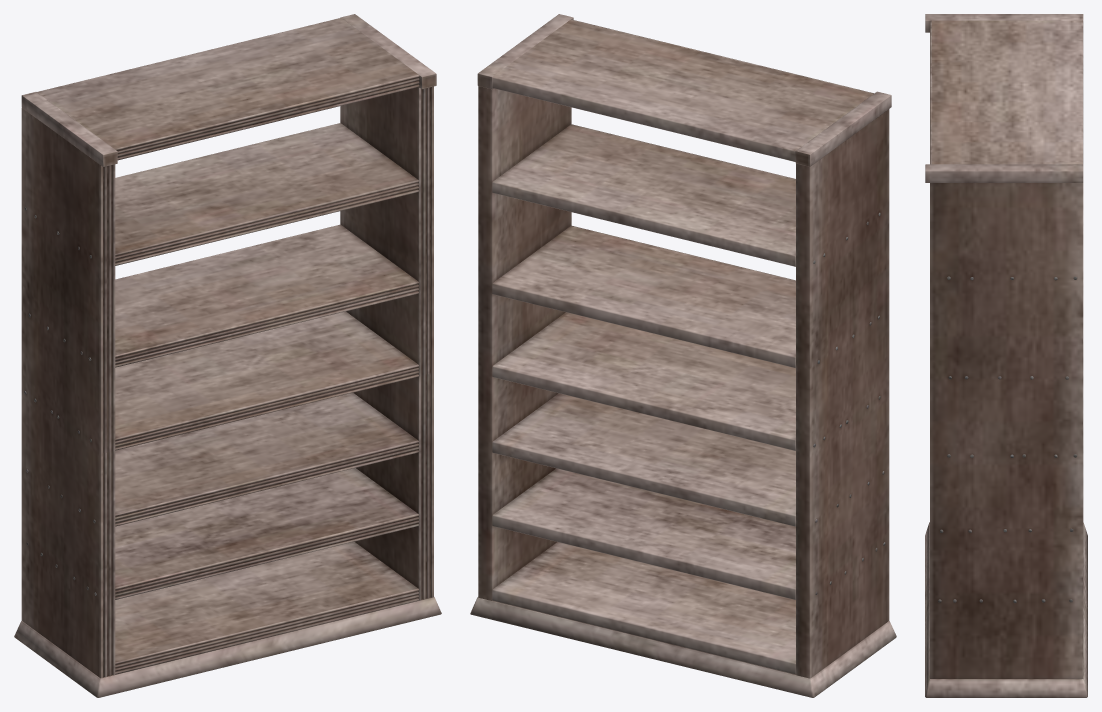
The model's file is bookshelf.glb.
The picture shows the model from 3 angles, left to right: view 1: azimuth 30°, elevation 25°; view 2: azimuth 150°, elevation 25°; view 3: azimuth 270°, elevation 25°; orthographic projection. The views are drawn at different scales.
Visible parts, largest first — view 1: wooden_bookshelf_worn; view 2: wooden_bookshelf_worn; view 3: wooden_bookshelf_worn.
Part boxes in pixels (left/top/right/bottom): wooden_bookshelf_worn: left=14, top=14, right=441, bottom=697; wooden_bookshelf_worn: left=470, top=14, right=896, bottom=697; wooden_bookshelf_worn: left=925, top=14, right=1087, bottom=697.
Size of the model in its own units: 1.37 by 2.06 by 0.5813.
Materials: 1 (1 with a texture image).
